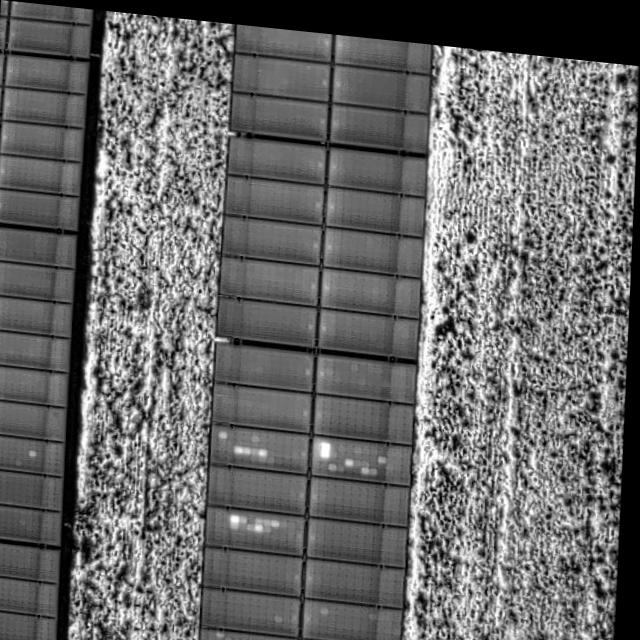Hotspot: (199, 27, 431, 640), (0, 0, 90, 640)
